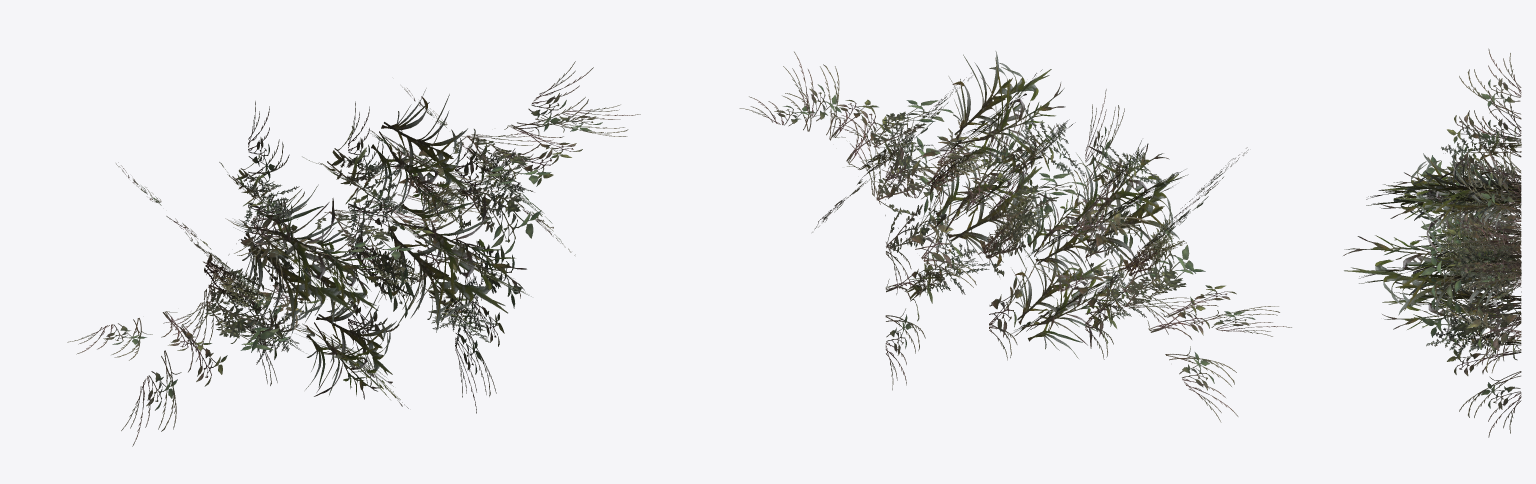
The model's file is t5_foliage_shrubs02_LOD0.obj.
The picture shows the model from 3 angles, left to right: view 1: azimuth 30°, elevation 25°; view 2: azimuth 150°, elevation 25°; view 3: azimuth 270°, elevation 25°; orthographic projection. The views are drawn at different scales.
Visible parts, largest first — view 1: t5_foliage_shrub_leaf01, t5_foliage_grass_leafy01; view 2: t5_foliage_grass_leafy01, t5_foliage_shrub_leaf01; view 3: t5_foliage_shrub_leaf01, t5_foliage_grass_leafy01.
Part boxes in pixels (x1=…): t5_foliage_shrub_leaf01: x1=203, y1=88, x2=534, y2=408; t5_foliage_grass_leafy01: x1=67, y1=61, x2=640, y2=446; t5_foliage_grass_leafy01: x1=739, y1=51, x2=1291, y2=422; t5_foliage_shrub_leaf01: x1=847, y1=51, x2=1188, y2=358; t5_foliage_shrub_leaf01: x1=1343, y1=126, x2=1521, y2=360; t5_foliage_grass_leafy01: x1=1420, y1=48, x2=1521, y2=437.
Size of the model in its own units: 575 by 378 by 186.
